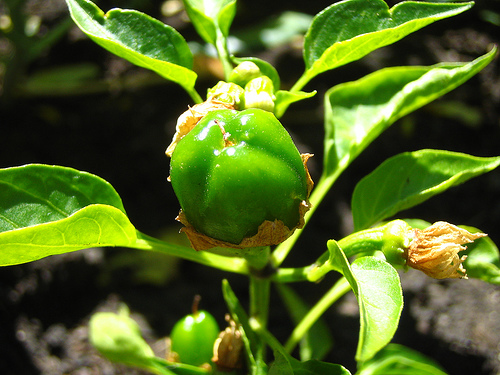capsicum: (163, 101, 313, 248)
